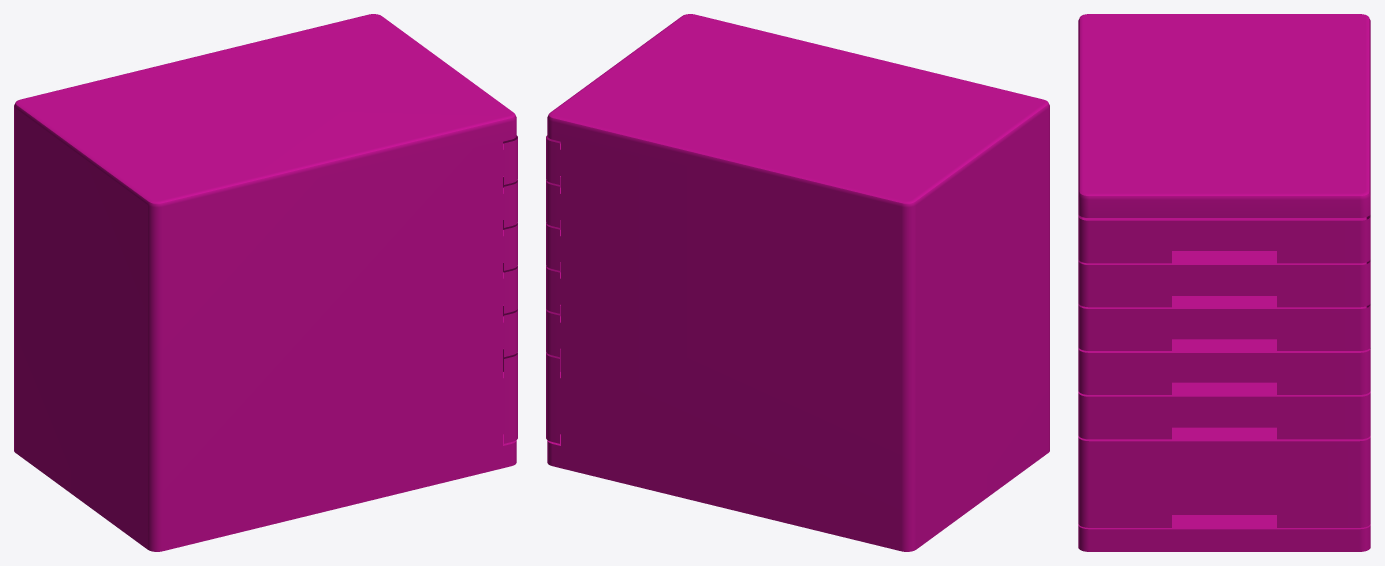
Rendered from S_FileFolder.fbx.
3 views of the same model, side by side, from view 1: azimuth 30°, elevation 25°; view 2: azimuth 150°, elevation 25°; view 3: azimuth 270°, elevation 25° (orthographic). The views are drawn at different scales.
Visible parts, largest first — view 1: CasierFolder_SubMat; view 2: CasierFolder_SubMat; view 3: CasierFolder_SubMat.
Part boxes in pixels (left/top/right/bottom): CasierFolder_SubMat: left=14, top=14, right=517, bottom=551; CasierFolder_SubMat: left=546, top=14, right=1049, bottom=551; CasierFolder_SubMat: left=1078, top=14, right=1370, bottom=551.
Size of the model in its own units: 43.15 by 39 by 29.
